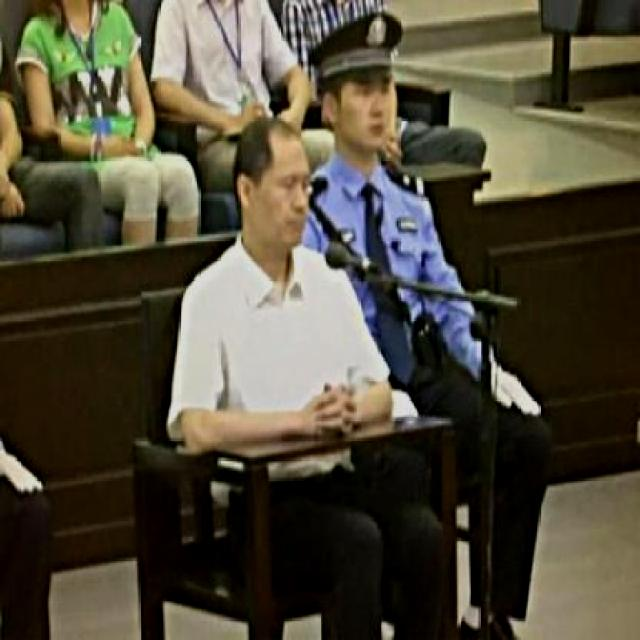face_nomask: (332, 78, 394, 148), (263, 164, 314, 244)
hand_glove: (486, 363, 542, 419)
hand_noglove: (0, 437, 45, 495), (310, 382, 356, 436), (0, 177, 25, 218), (102, 134, 140, 157), (237, 98, 263, 120)
head_nohelmet: (303, 34, 417, 94), (234, 118, 320, 160)
person: (302, 0, 602, 640), (171, 123, 443, 640)
